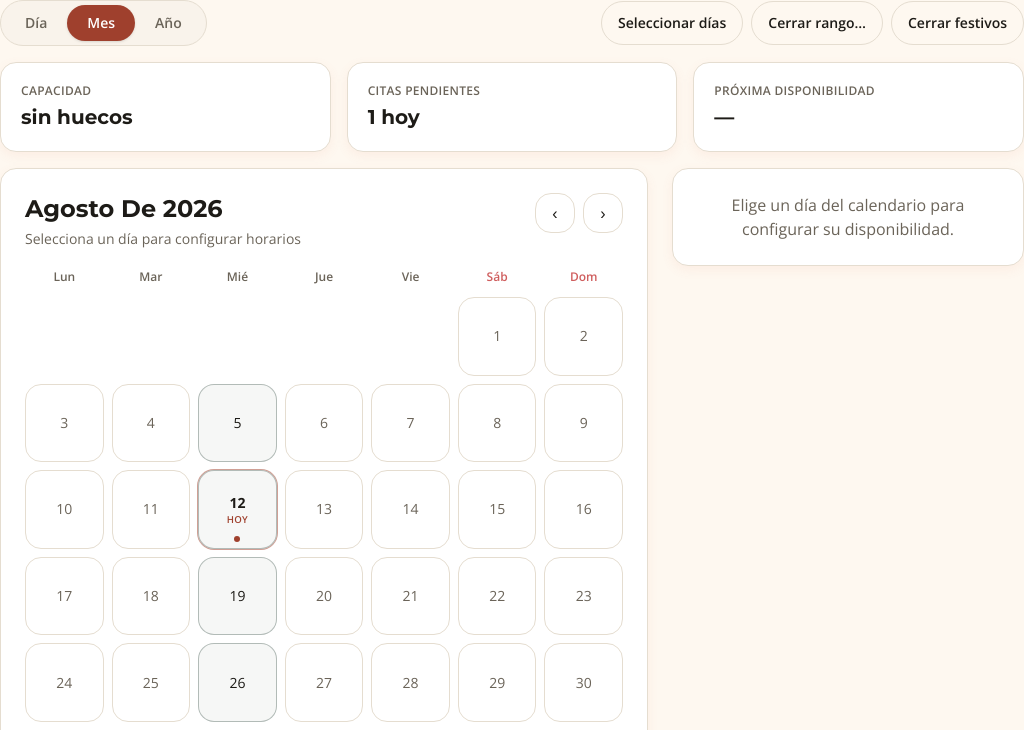
Scenario: AgendaCliente › desde la vista anual, pulsar un día abre la vista diaria de esa fecha
Click the radio button labelled "Año": (168, 23) [135, 5, 202, 41]
(page scrolled)
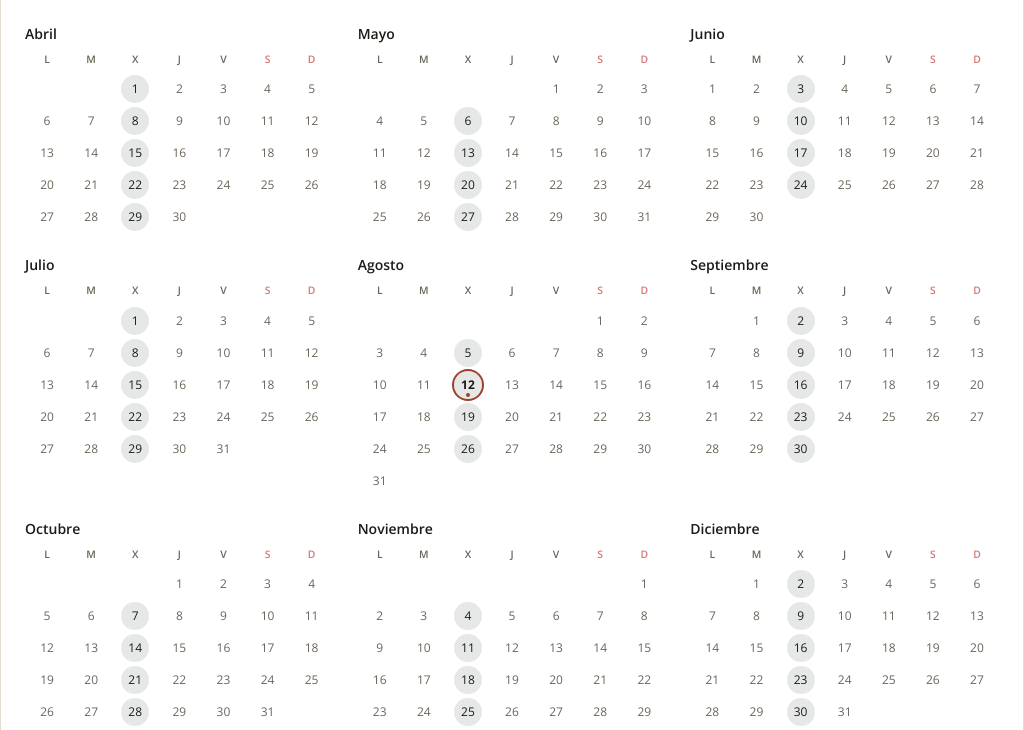
Click the cell named "2026-08-12": (468, 385) [454, 371, 482, 399]
(page scrolled)
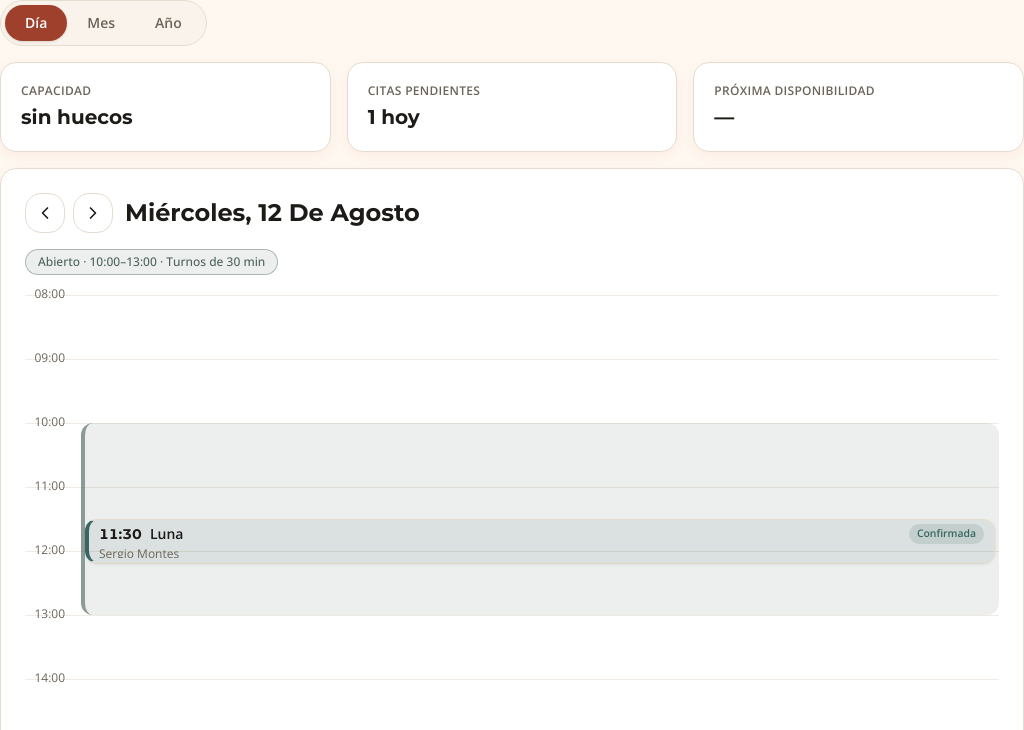
Expected: the heading "miércoles, 12 de agosto" is shown, [125, 197, 420, 229]
